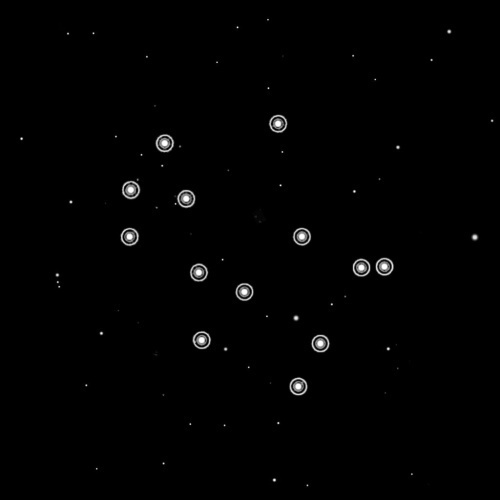gemini: (118, 106, 398, 406)
